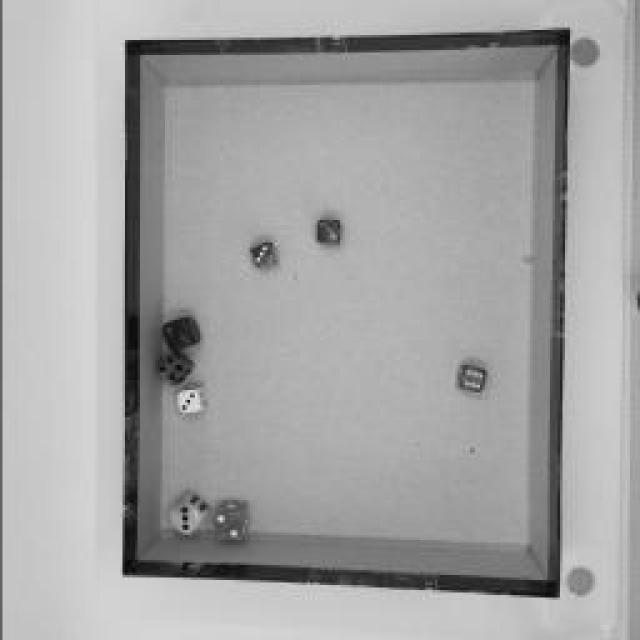dice_2: (212, 500, 252, 542), (161, 315, 204, 353), (311, 216, 349, 246)
dice_3: (168, 490, 208, 538), (175, 385, 210, 415), (248, 242, 280, 266)
dice_4: (156, 351, 196, 384)
dice_6: (456, 365, 489, 395)
